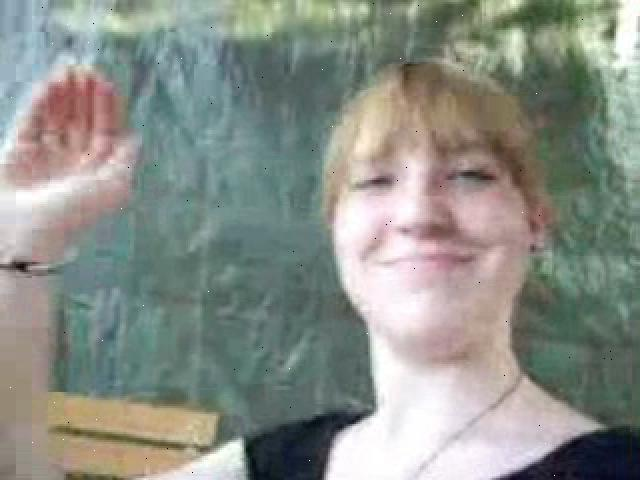T: (8, 54, 639, 476)
